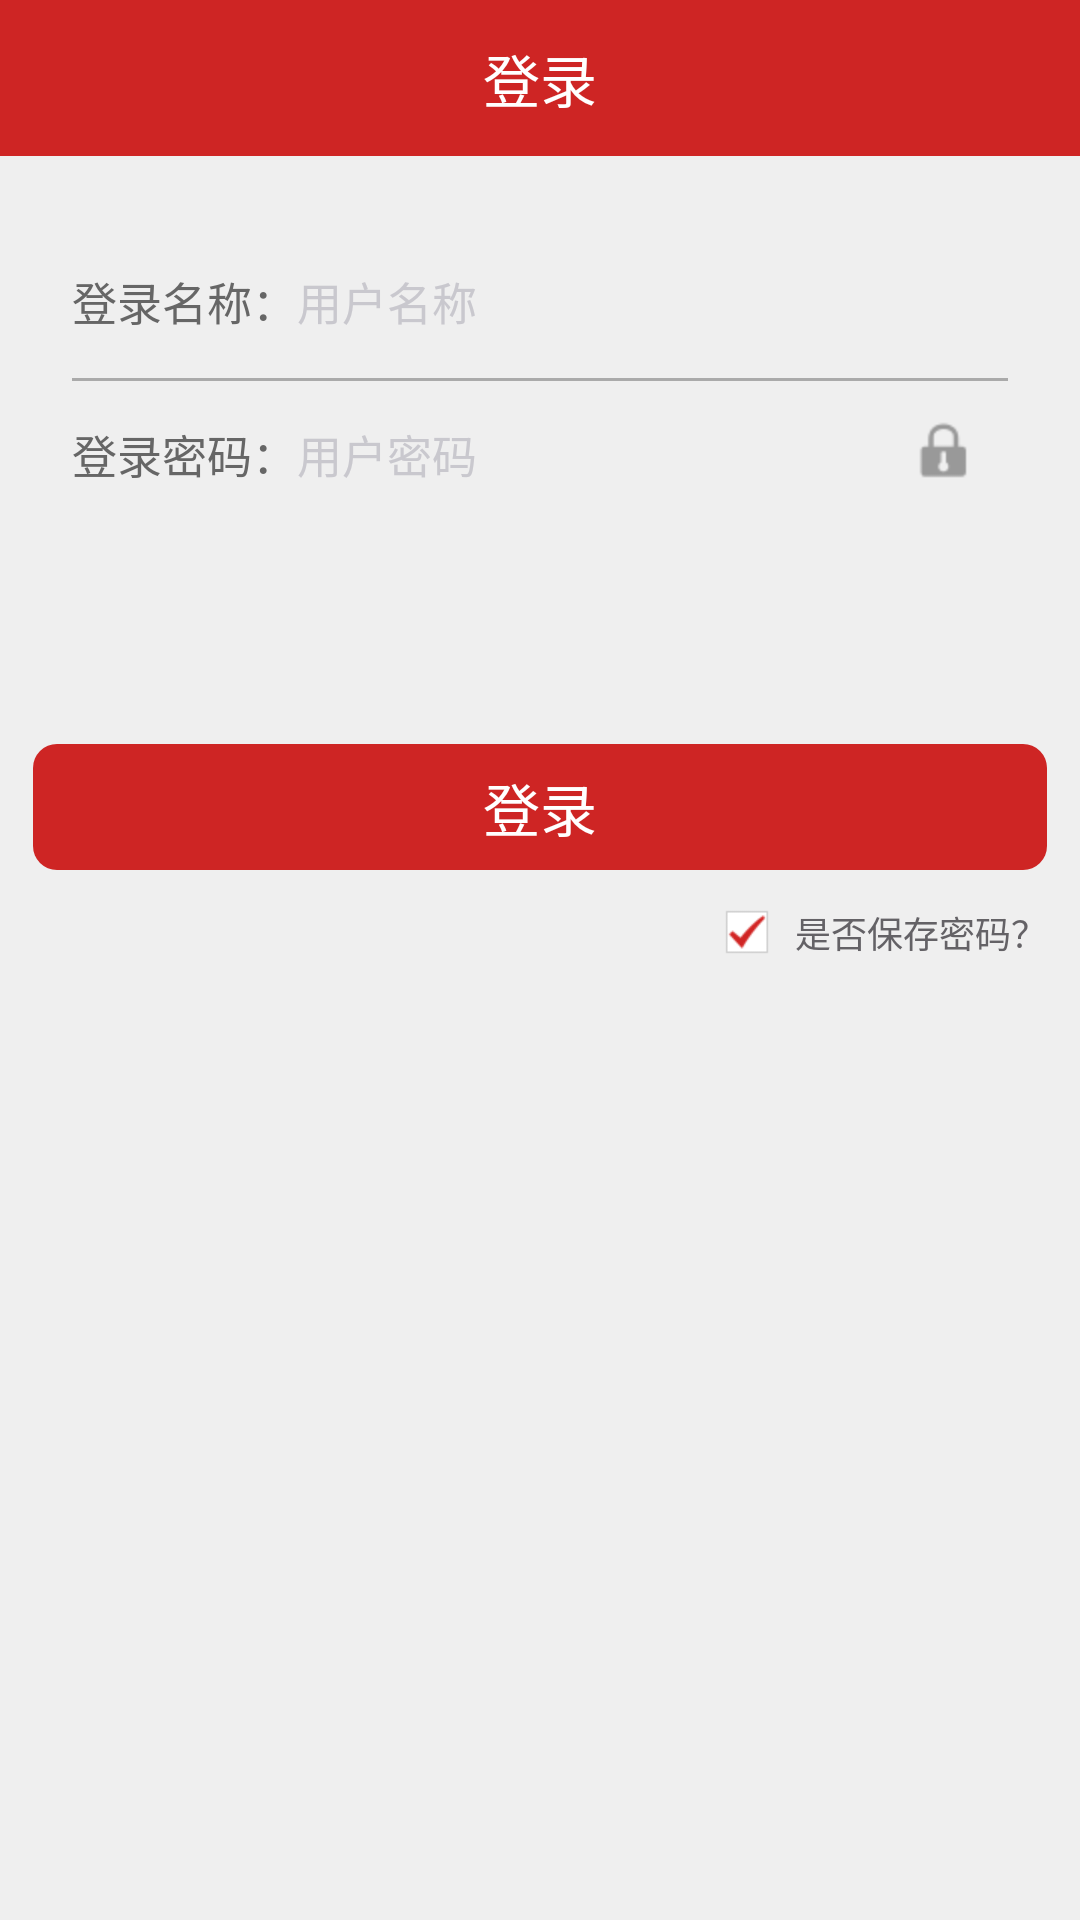

Point at icon controls on the screen. Image size 1080*1920, points as (x,y).
checkbox base: (747,932)
password: (943,450)
